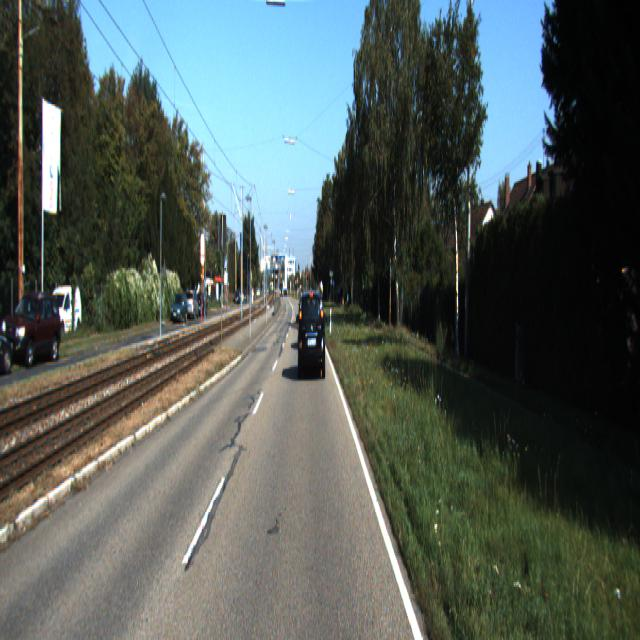Car: (3, 294, 62, 370), (298, 290, 326, 382), (44, 283, 83, 342), (0, 307, 16, 379), (171, 292, 188, 324), (184, 287, 200, 319)
